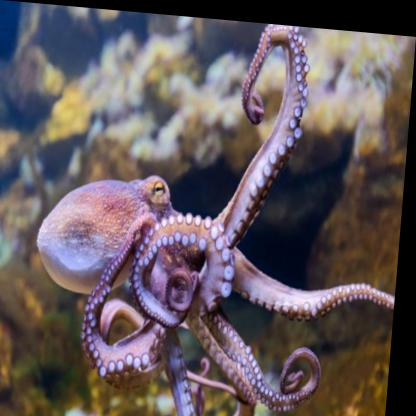Squid: (26, 3, 415, 415)
